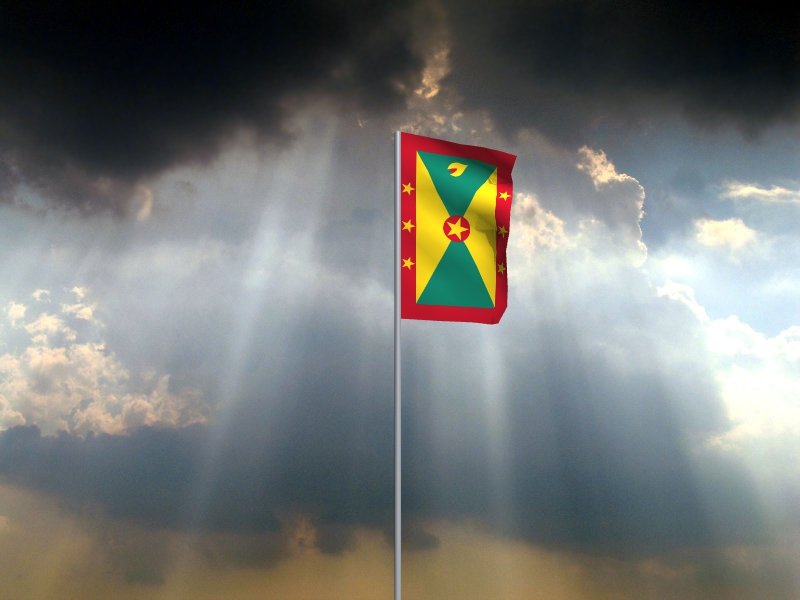gd: (402, 133, 519, 327)
